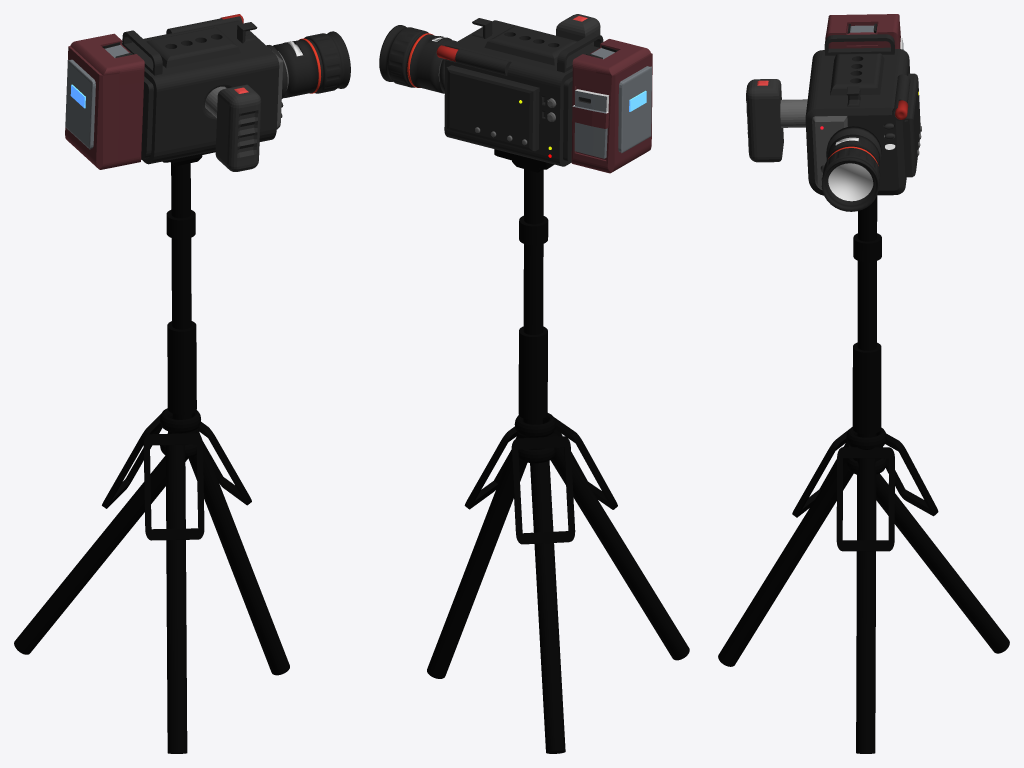
The model's file is camera.glb.
3 views of the same model, side by side, from view 1: azimuth 30°, elevation 25°; view 2: azimuth 150°, elevation 25°; view 3: azimuth 270°, elevation 25° (orthographic). The views are drawn at different scales.
Parts seen in each view (by area): view 1: Cube.007, Cube.006, Cylinder.011, Cylinder.012, Cylinder.010, Cylinder.039, Cube.004, Cylinder.017, Cylinder.009, Cube.003, Cube.008, Cube.009 (+2 smaller); view 2: Cube.007, Cube.006, Cylinder.010, Cylinder.011, Cylinder.012, Cylinder.039, Cylinder.017, Cube.008, Cylinder.009, Cube.003, Cube.009, Cube.004 (+4 smaller); view 3: Cube.007, Cylinder.012, Cylinder.011, Cylinder.010, Cylinder.039, Cube.004, Cylinder.009, Cylinder.017, Cube.009, Cube.006, Cube.008, Cube.003 (+4 smaller).
Boxes of the visible parts, x1,y1,x2,y2 form: Cube.007: (122, 20, 283, 164); Cube.006: (65, 33, 144, 169); Cylinder.011: (165, 445, 187, 753); Cylinder.012: (188, 428, 289, 675); Cylinder.010: (14, 455, 188, 654); Cylinder.039: (273, 31, 350, 97); Cube.004: (215, 84, 261, 171); Cylinder.017: (171, 163, 192, 419); Cylinder.009: (167, 321, 196, 414); Cube.003: (143, 433, 204, 540); Cube.008: (102, 414, 162, 508); Cube.009: (197, 422, 251, 505); Cube.007: (444, 20, 603, 166); Cube.006: (571, 39, 652, 173); Cylinder.010: (530, 460, 565, 753); Cylinder.011: (547, 433, 689, 660); Cylinder.012: (427, 433, 527, 678); Cylinder.039: (379, 25, 456, 93); Cylinder.017: (523, 169, 543, 424); Cube.008: (511, 436, 575, 544); Cylinder.009: (518, 326, 547, 419); Cube.003: (553, 417, 617, 509); Cube.009: (464, 426, 518, 509); Cube.004: (556, 14, 600, 45); Cube.007: (805, 34, 920, 195); Cylinder.012: (856, 458, 876, 753); Cylinder.011: (718, 445, 853, 666); Cylinder.010: (856, 473, 1009, 653); Cylinder.039: (821, 134, 880, 211); Cube.004: (746, 79, 783, 162); Cylinder.009: (852, 342, 881, 434); Cylinder.017: (857, 196, 877, 437); Cube.009: (836, 447, 894, 551); Cube.006: (825, 14, 903, 49); Cube.008: (882, 433, 938, 516); Cube.003: (792, 429, 849, 517).
Bounding box in the file's own units: 4.25 × 10.67 × 4.32.
